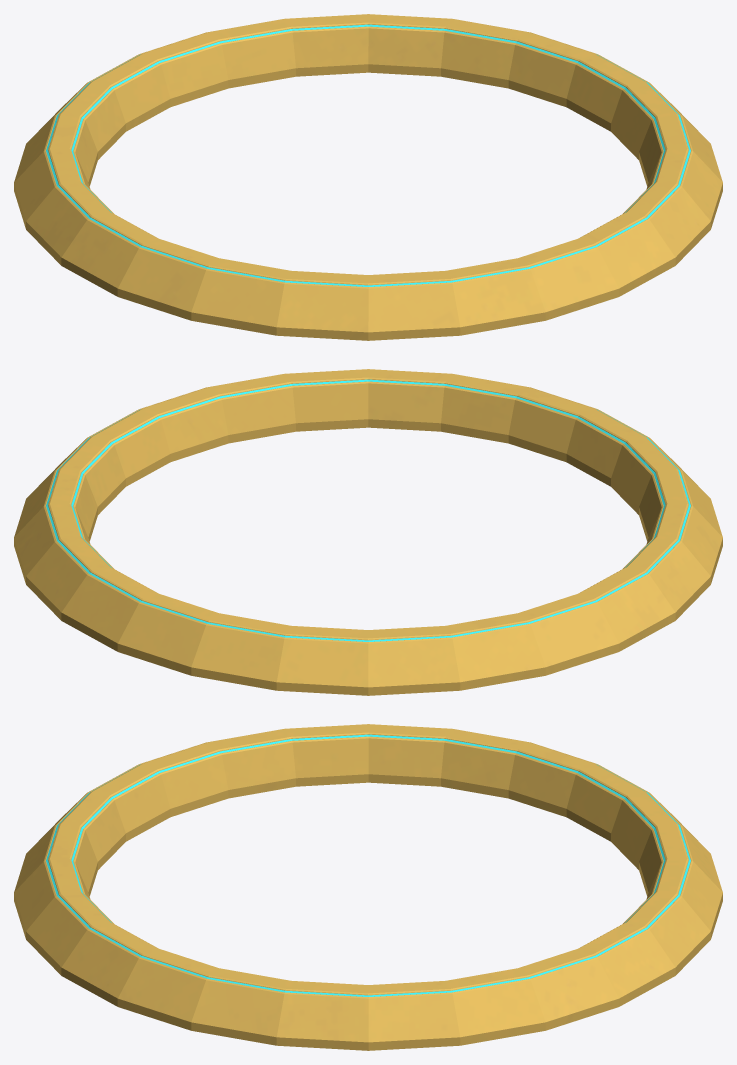
File: WhackMoleAa.fbx
The picture shows the model from 3 angles, top to bottom: view 1: azimuth 30°, elevation 25°; view 2: azimuth 150°, elevation 25°; view 3: azimuth 270°, elevation 25°; orthographic projection.
Parts seen in each view (by area): view 1: SM_VA_WhackMoleAa.mo; view 2: SM_VA_WhackMoleAa.mo; view 3: SM_VA_WhackMoleAa.mo.
Boxes of the visible parts, bbox=[...] form: SM_VA_WhackMoleAa.mo: bbox=[14, 14, 722, 340]; SM_VA_WhackMoleAa.mo: bbox=[14, 369, 722, 695]; SM_VA_WhackMoleAa.mo: bbox=[14, 724, 722, 1050].
Size of the model in its own units: 3.8 by 0.25 by 3.8.
